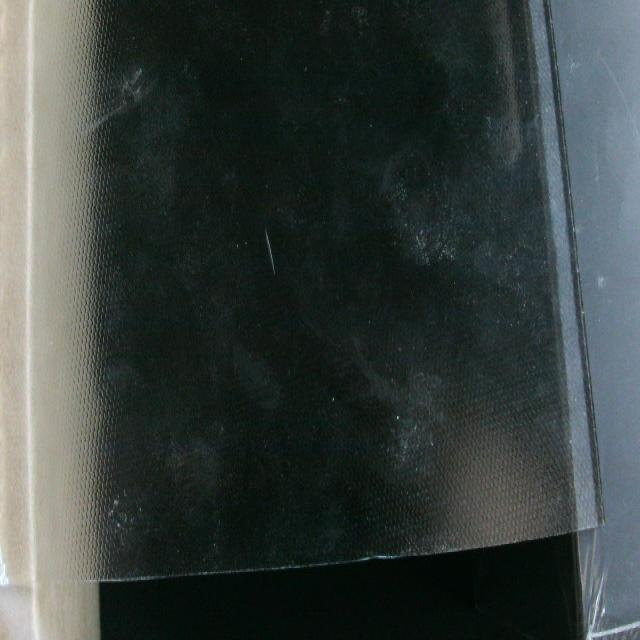edge_chip: (349, 543, 405, 570)
scratch: (258, 222, 284, 288)
